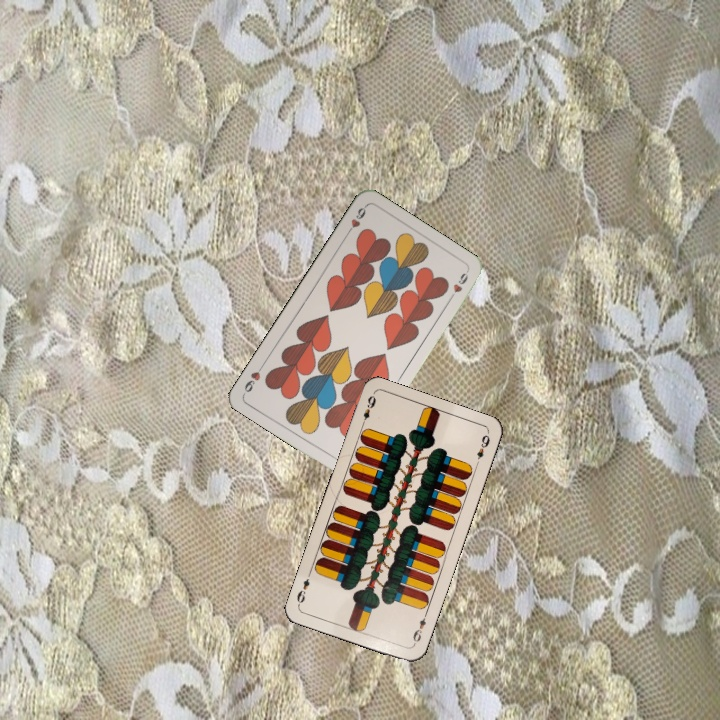E9: (409, 609, 430, 648), (357, 391, 378, 430)
H9: (342, 202, 369, 238)
